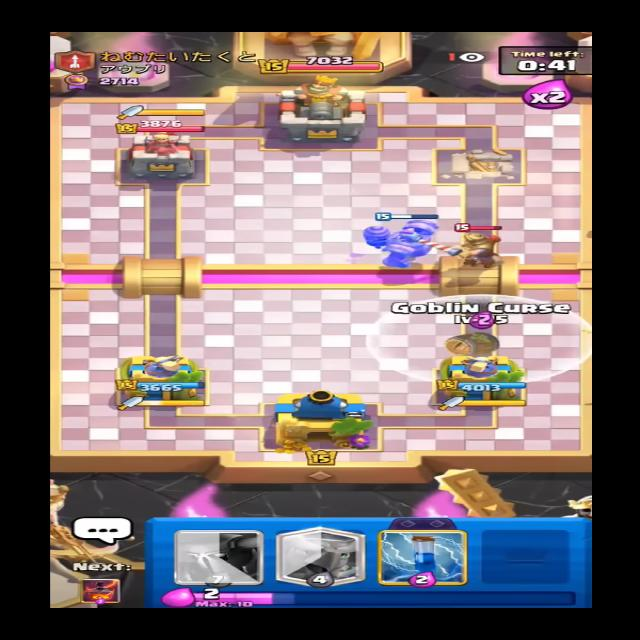goblin-barrel: (434, 319, 520, 361)
prince: (444, 219, 504, 276)
